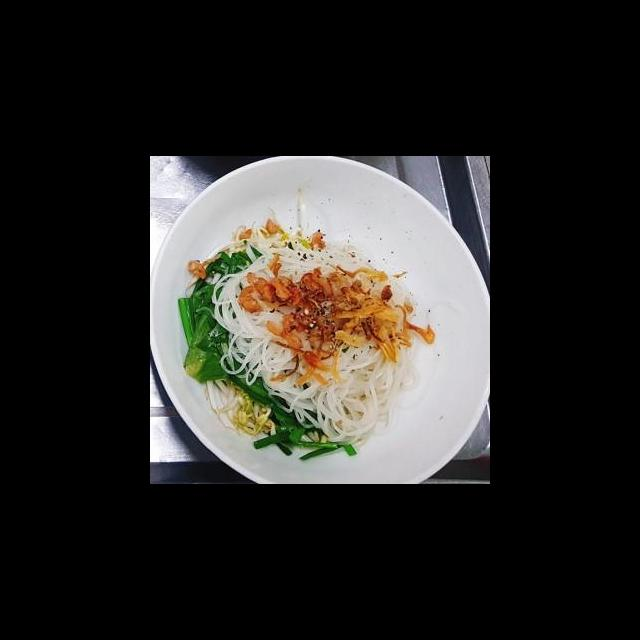banh hu tieu: (208, 228, 435, 450)
